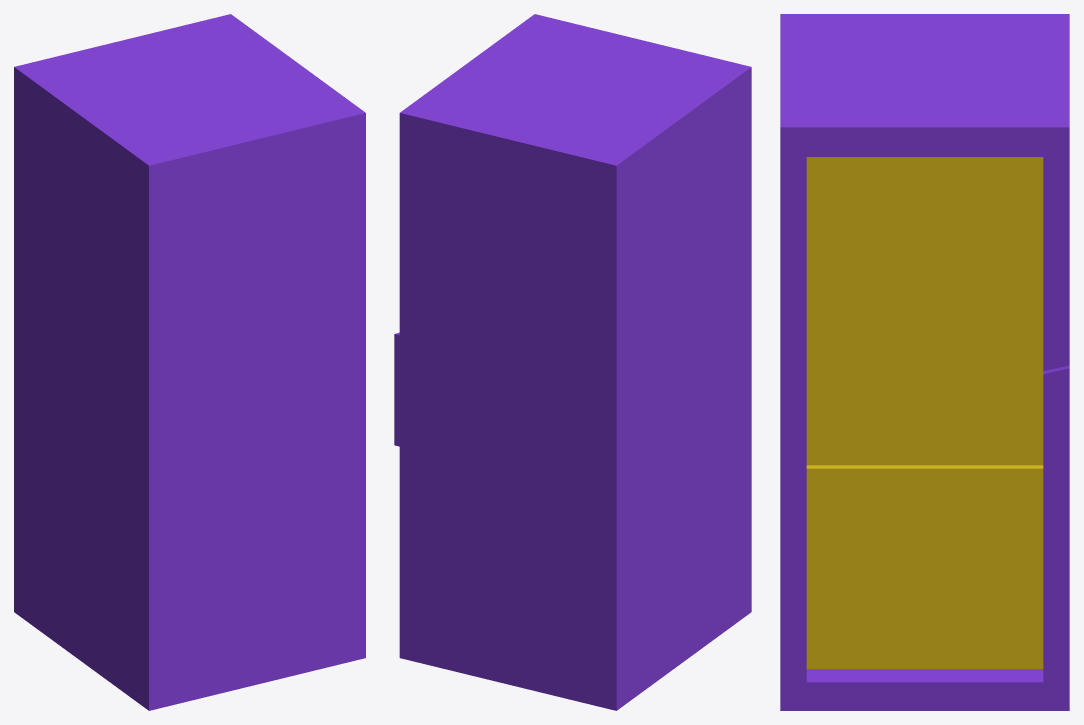
Rendered from server_walltest.fbx.
3 renders of one model, left to right at view 1: azimuth 30°, elevation 25°; view 2: azimuth 150°, elevation 25°; view 3: azimuth 270°, elevation 25°, orthographic. The views are drawn at different scales.
Parts seen in each view (by area): view 1: Cube; view 2: Cube; view 3: Cube.
Boxes of the visible parts, x1,y1,x2,y2 form: Cube: (14,14,365,710); Cube: (394,14,751,710); Cube: (780,14,1069,710).
Bounding box in the file's own units: 209 × 490 × 220.
